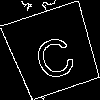C: (28, 26, 79, 83)
